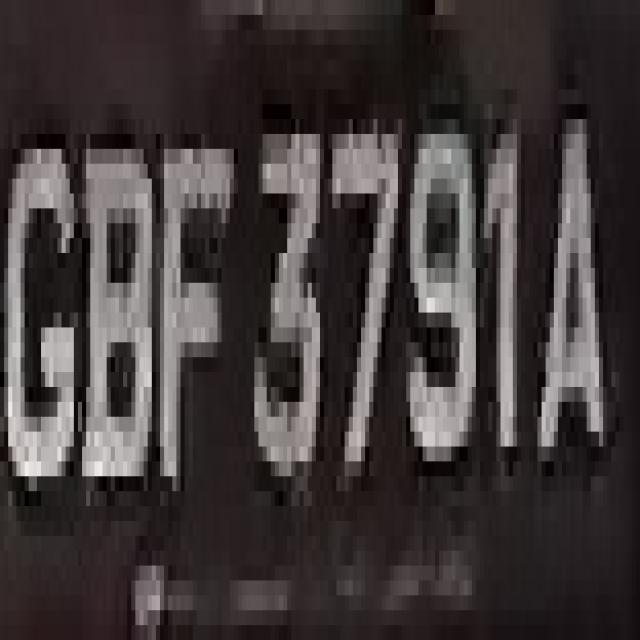1: (484, 89, 521, 491)
3: (250, 104, 336, 476)
7: (328, 90, 402, 477)
9: (406, 74, 480, 477)
A: (534, 75, 612, 491)
B: (82, 89, 152, 521)
F: (160, 89, 246, 521)
G: (0, 74, 82, 506)
